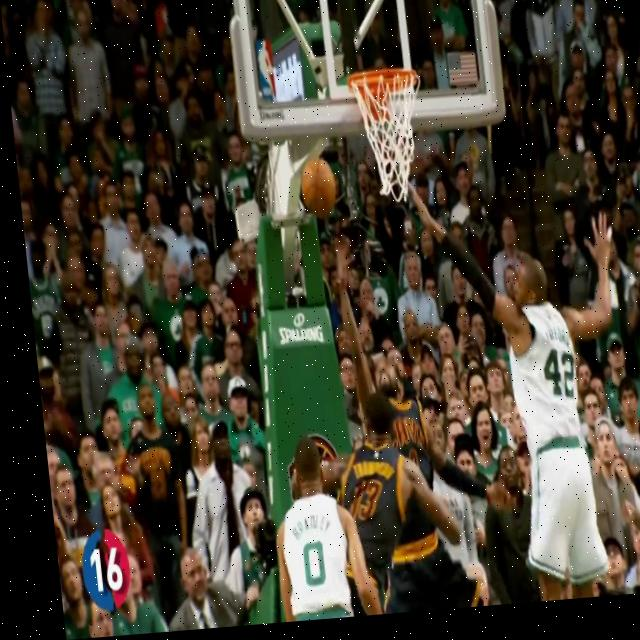basketball: (298, 156, 342, 224)
hoop: (347, 62, 436, 214)
